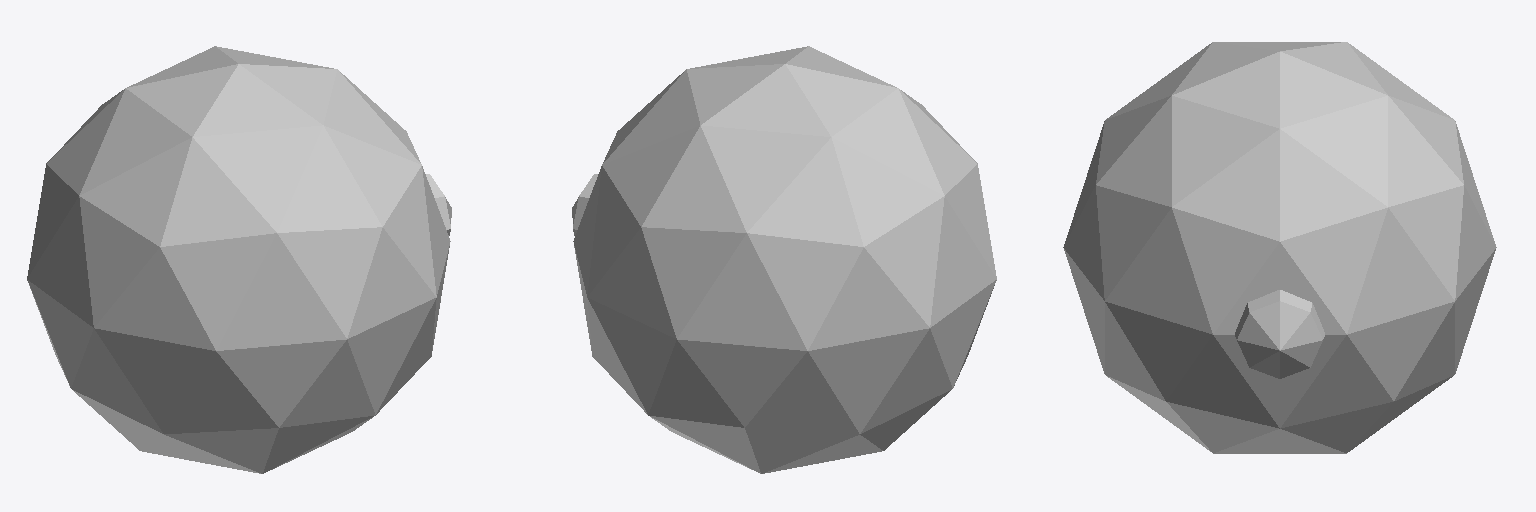
Rendered from eye.obj.
The picture shows the model from 3 angles: view 1: azimuth 30°, elevation 25°; view 2: azimuth 150°, elevation 25°; view 3: azimuth 270°, elevation 25°; orthographic projection.
Visible parts, largest first — view 1: Icosphere; view 2: Icosphere; view 3: Icosphere.
Boxes of the visible parts, box(x1,y1,x2,y2) form: Icosphere: box(27, 46, 451, 473); Icosphere: box(572, 46, 996, 473); Icosphere: box(1063, 42, 1496, 453).
Bounding box in the file's own units: 0.9441 × 0.9056 × 0.9056.